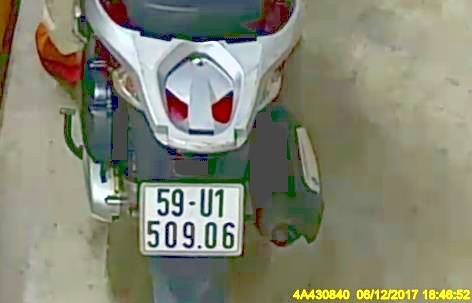plate: (141, 180, 240, 256)
